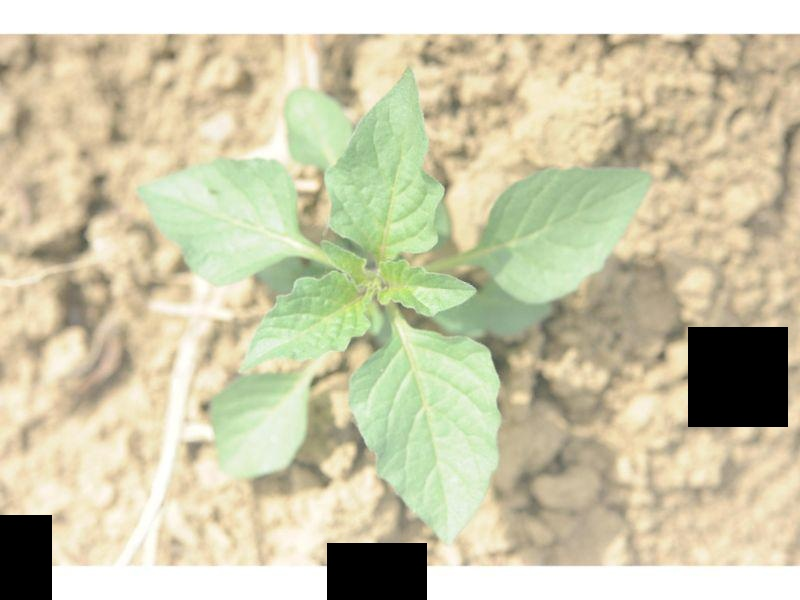nightshade: (137, 64, 652, 541)
